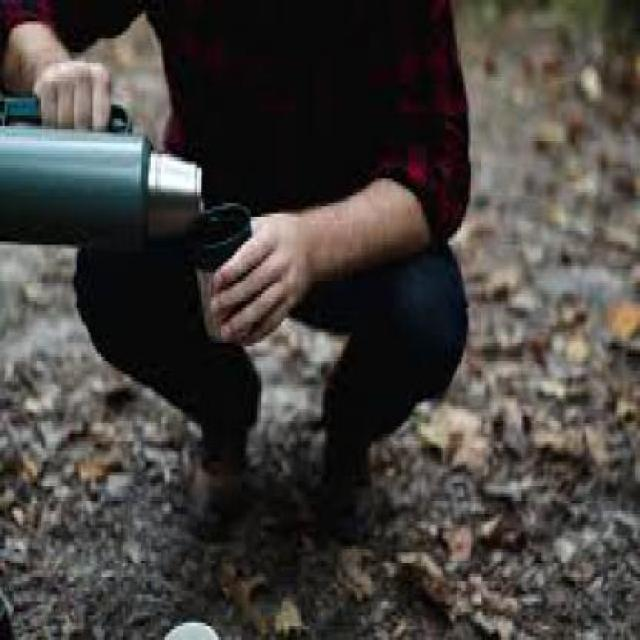Drinking: (0, 91, 265, 346)
